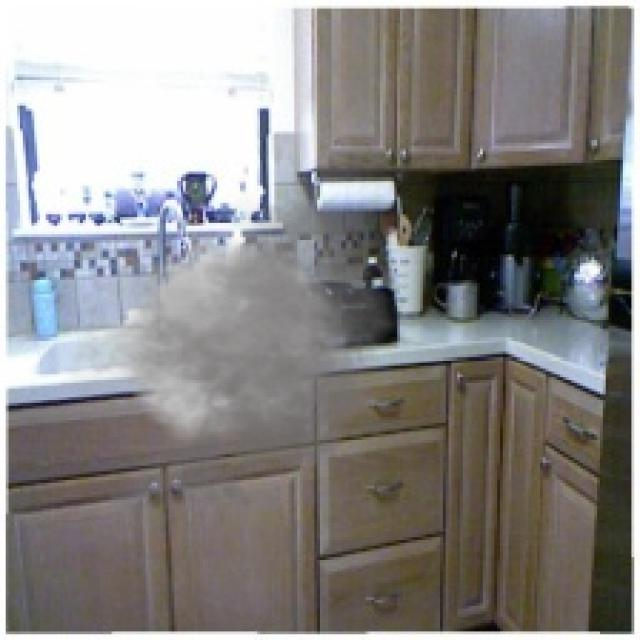smoke: (49, 186, 417, 534)
